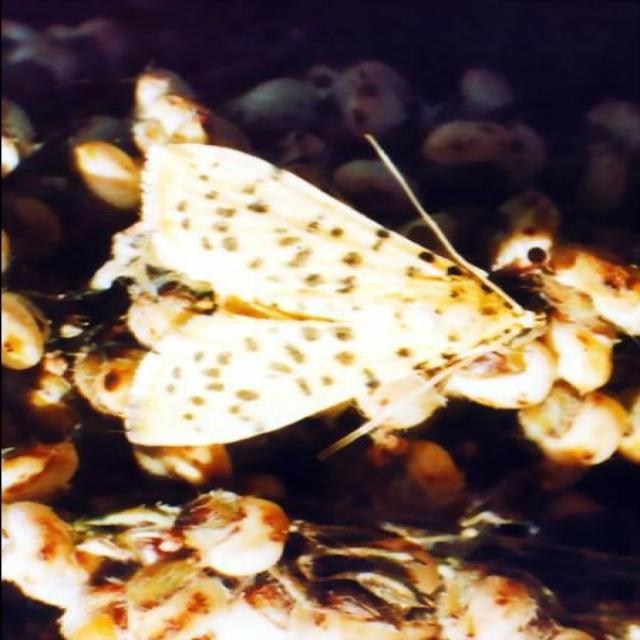peach borer: (119, 136, 537, 457)
